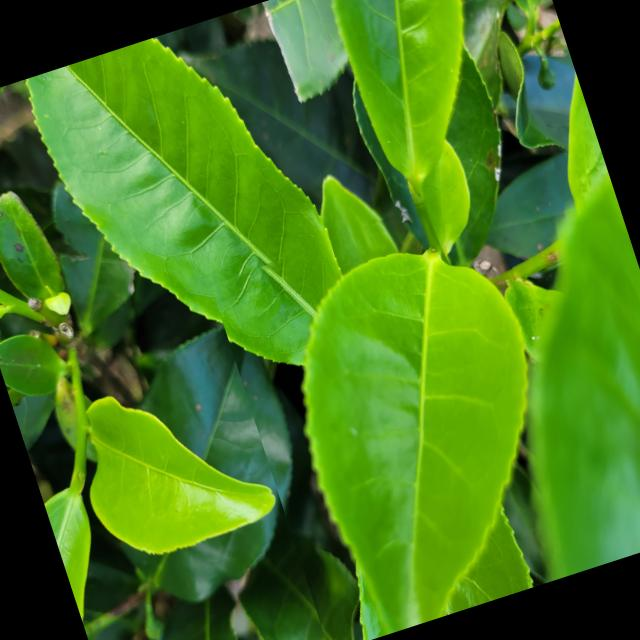Category B(2-4 days): (205, 177, 616, 640)
